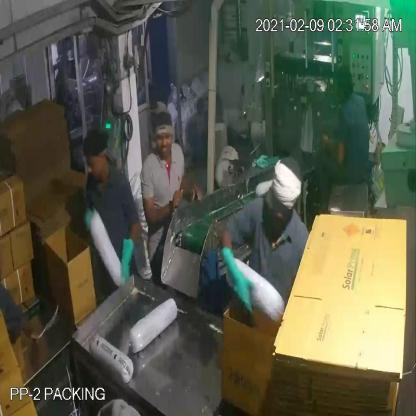glove: (212, 230, 260, 317), (113, 216, 137, 291)
no_glove: (139, 183, 188, 230), (320, 130, 353, 168)
